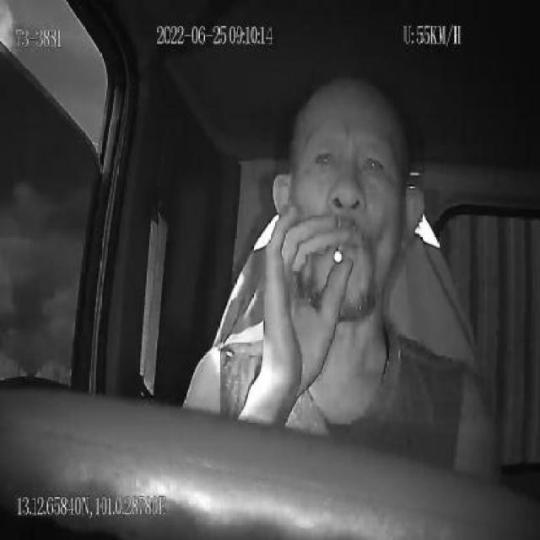smoking: (334, 242, 344, 263)
